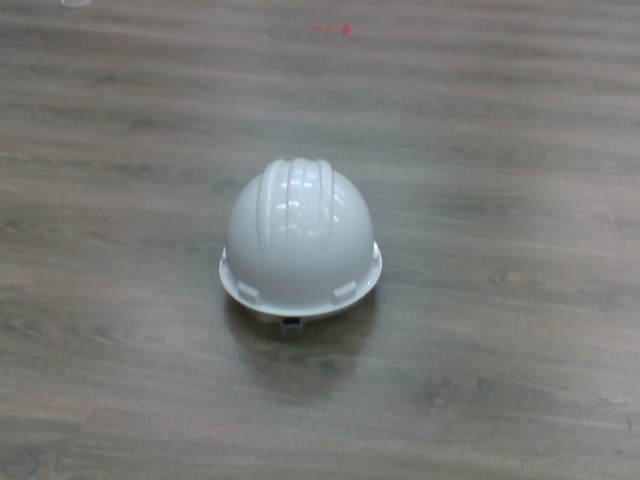helmet: (216, 154, 386, 328)
